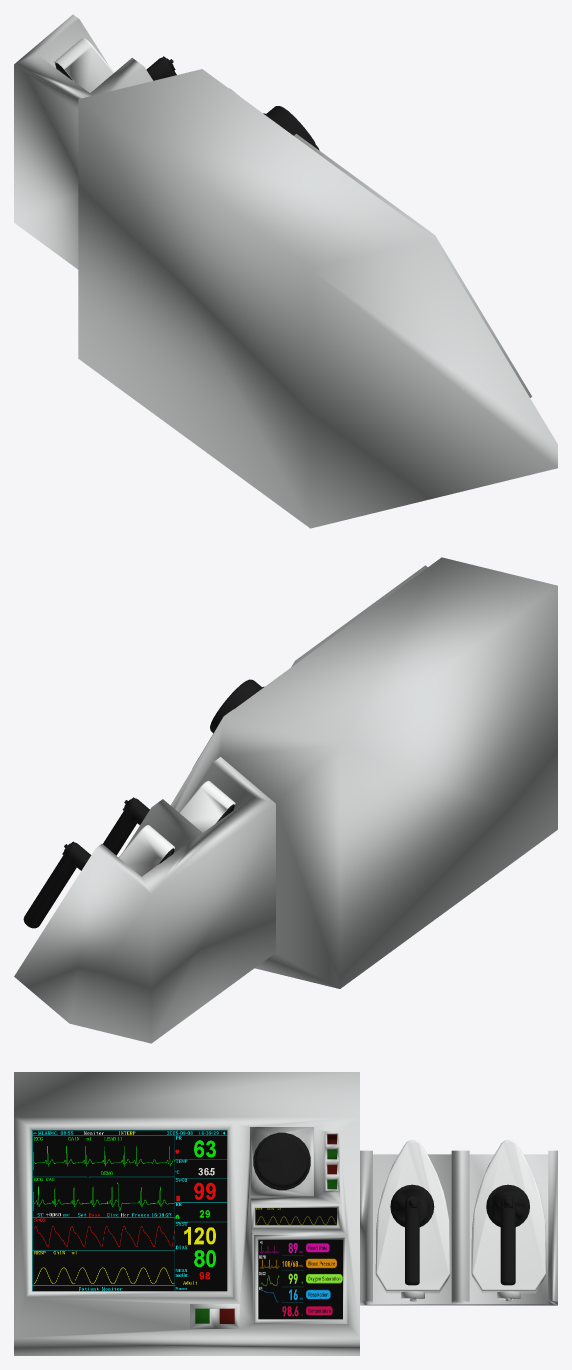
3 renders of one model, top to bottom at view 1: azimuth 30°, elevation 25°; view 2: azimuth 150°, elevation 25°; view 3: azimuth 270°, elevation 25°, orthographic. The views are drawn at different scales.
Visible parts, largest first — view 1: EM-22a; view 2: EM-22a; view 3: EM-22a.
Part boxes in pixels (left/top/right/bottom): EM-22a: left=14, top=14, right=557, bottom=528; EM-22a: left=14, top=557, right=557, bottom=1043; EM-22a: left=14, top=1072, right=557, bottom=1355.
Size of the model in its own units: 21.94 by 21.68 by 55.16.
Materials: 8 (3 with a texture image).
